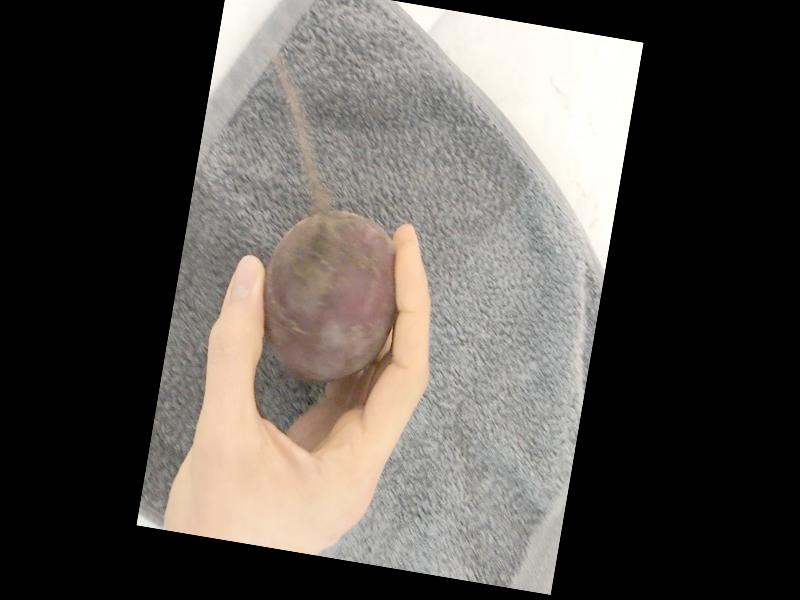Beet: (249, 201, 410, 393)
